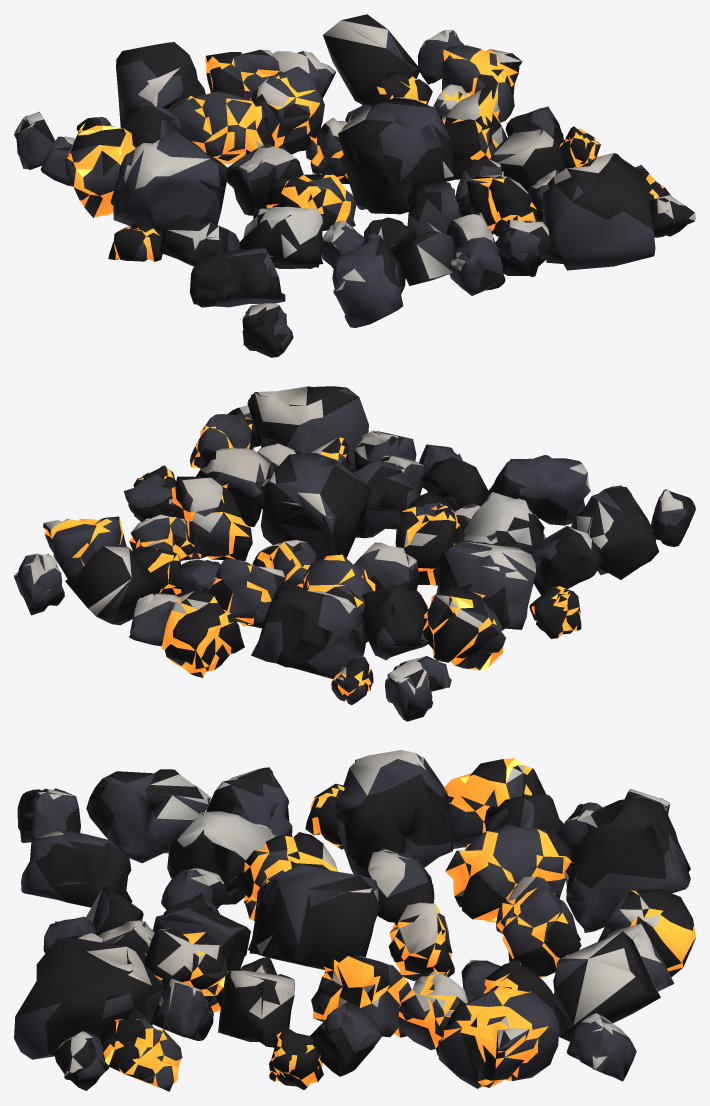
File: ember_coal_bed.glb
The picture shows the model from 3 angles, top to bottom: view 1: azimuth 30°, elevation 25°; view 2: azimuth 150°, elevation 25°; view 3: azimuth 270°, elevation 25°; orthographic projection. The views are drawn at different scales.
Visible parts, largest first — view 1: ember_coal_bed; view 2: ember_coal_bed; view 3: ember_coal_bed.
Part boxes in pixels (x1=…): ember_coal_bed: x1=14, y1=14, x2=695, y2=357; ember_coal_bed: x1=14, y1=386, x2=695, y2=721; ember_coal_bed: x1=14, y1=750, x2=695, y2=1091.
Size of the model in its own units: 11.8 by 2.32 by 12.09.
